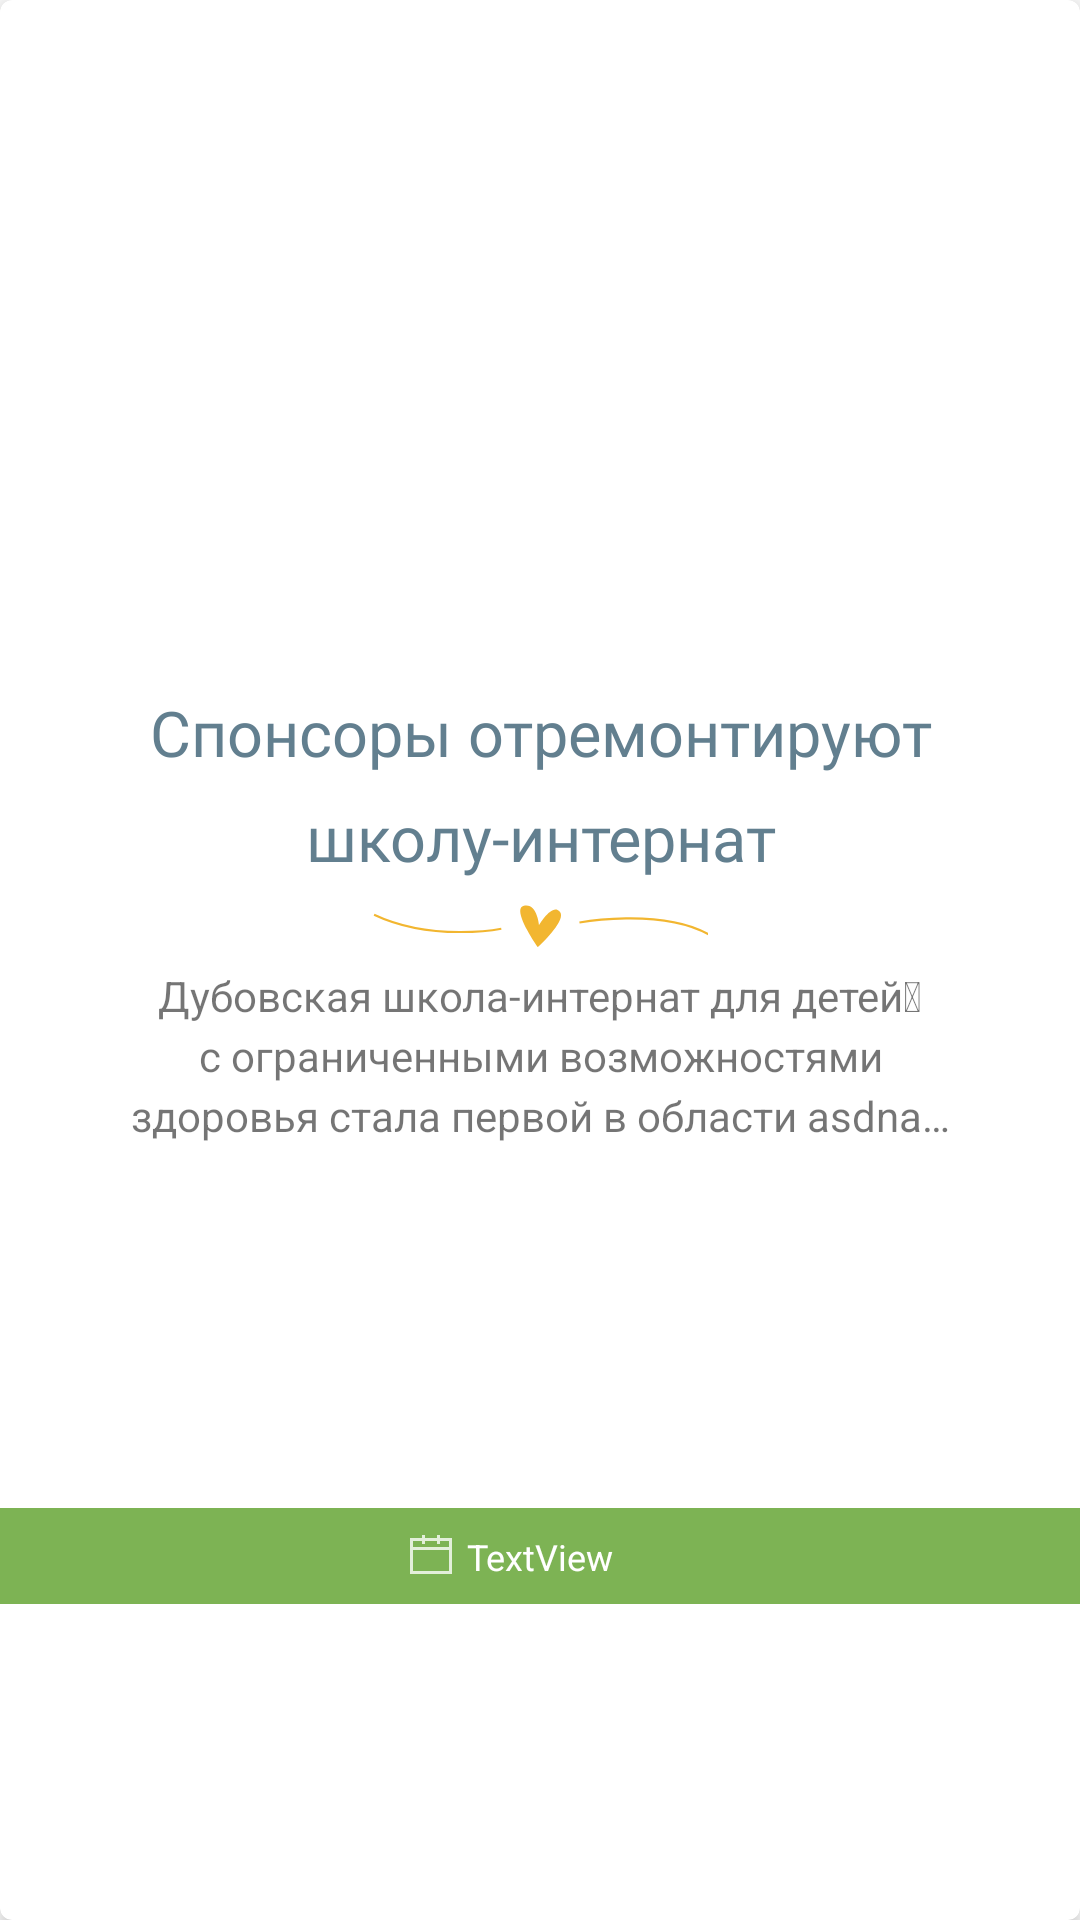

Where to tap for icons on this 1080×1920 app screen, as (x=x, y=y):
calendar: (x=431, y=1554)
